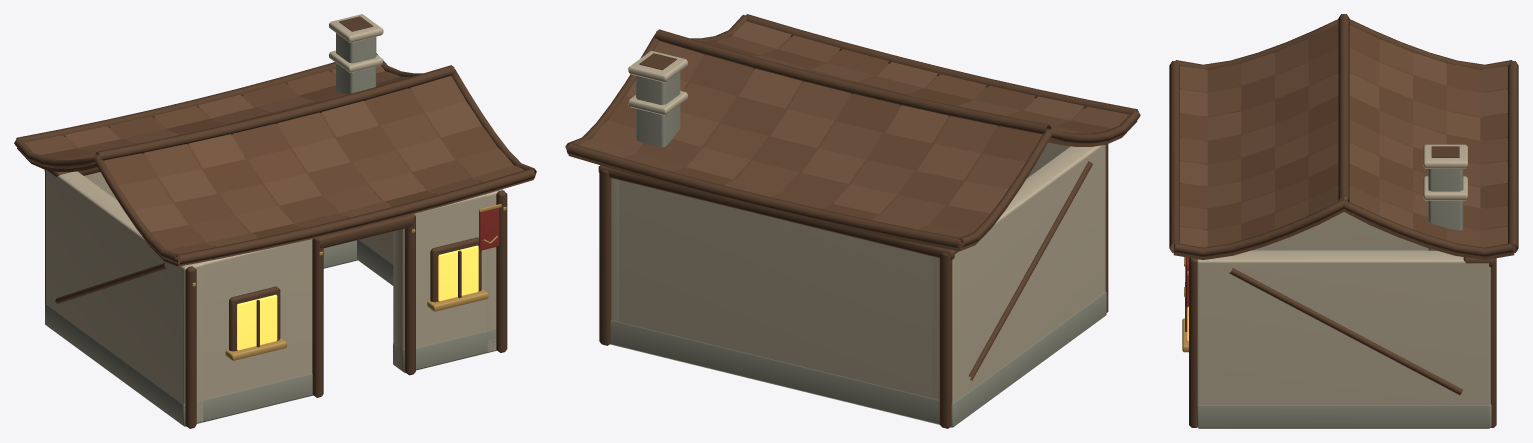
File: architecture-townhome.glb
3 renders of one model, left to right at view 1: azimuth 30°, elevation 25°; view 2: azimuth 150°, elevation 25°; view 3: azimuth 270°, elevation 25°, orthographic. The views are drawn at different scales.
Parts seen in each view (by area): view 1: architecture-townhome-exterior; view 2: architecture-townhome-exterior; view 3: architecture-townhome-exterior.
Boxes of the visible parts, bbox=[...] form: architecture-townhome-exterior: bbox=[14, 14, 536, 428]; architecture-townhome-exterior: bbox=[565, 14, 1140, 428]; architecture-townhome-exterior: bbox=[1169, 14, 1518, 428].
Size of the model in its own units: 5.07 by 3.31 by 4.
